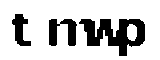m: (41, 17, 94, 52)
p: (115, 15, 146, 60)
t: (8, 9, 33, 51)
w: (82, 17, 120, 49)
